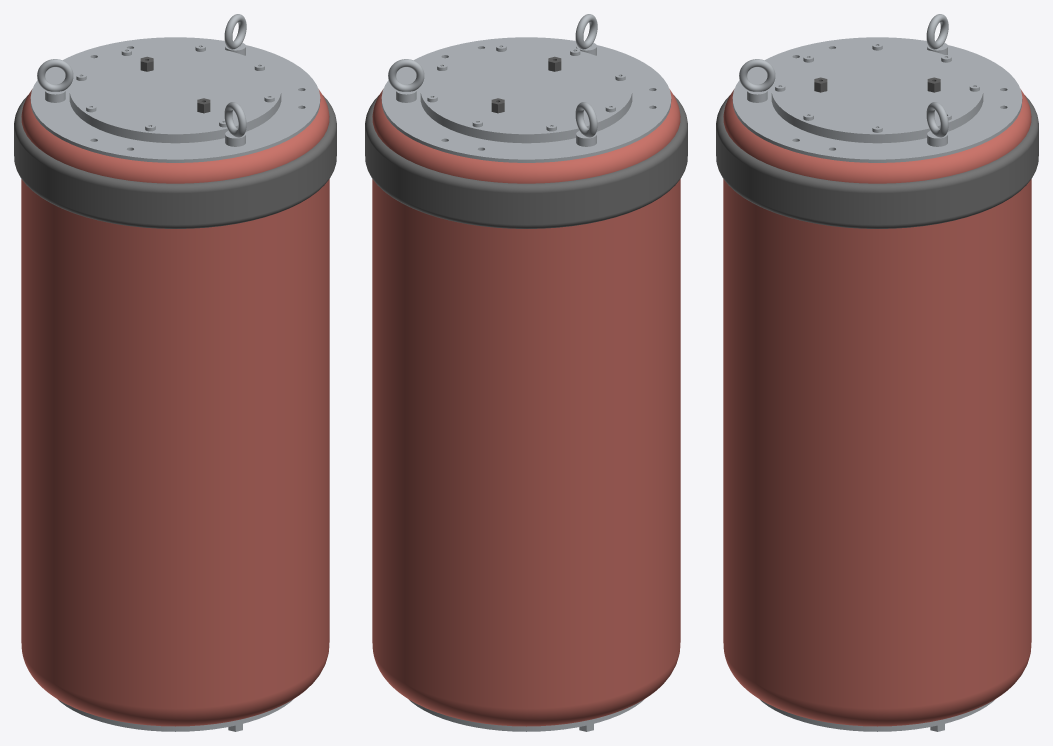
Rendered from step_02.glb.
3 views of the same model, side by side, from view 1: azimuth 30°, elevation 25°; view 2: azimuth 150°, elevation 25°; view 3: azimuth 270°, elevation 25° (orthographic).
Visible parts, largest first — view 1: part__float hull, part__fender ring, part__hatch lid, part__deck plate, part__keel plate, part__equipment canister, part__lifting eye nut 2, part__lifting eye nut 3, part__lifting eye nut 1; view 2: part__float hull, part__fender ring, part__hatch lid, part__deck plate, part__keel plate, part__equipment canister, part__lifting eye nut 1, part__lifting eye nut 2, part__lifting eye nut 3; view 3: part__float hull, part__fender ring, part__hatch lid, part__deck plate, part__keel plate, part__equipment canister, part__lifting eye nut 3, part__lifting eye nut 1, part__lifting eye nut 2.
Boxes of the visible parts, x1,y1,x2,y2 form: part__float hull: (21, 89, 329, 726); part__fender ring: (14, 95, 336, 228); part__hatch lid: (69, 44, 281, 138); part__deck plate: (30, 37, 320, 162); part__keel plate: (58, 699, 292, 731); part__equipment canister: (69, 97, 281, 143); part__lifting eye nut 2: (37, 59, 73, 102); part__lifting eye nut 3: (224, 102, 246, 146); part__lifting eye nut 1: (224, 14, 246, 55); part__float hull: (372, 89, 680, 726); part__fender ring: (365, 95, 687, 228); part__hatch lid: (420, 44, 632, 138); part__deck plate: (381, 37, 671, 162); part__keel plate: (409, 699, 643, 731); part__equipment canister: (420, 97, 632, 143); part__lifting eye nut 1: (388, 59, 424, 102); part__lifting eye nut 2: (575, 102, 597, 146); part__lifting eye nut 3: (575, 14, 597, 55); part__float hull: (723, 89, 1031, 726); part__fender ring: (716, 95, 1038, 228); part__hatch lid: (771, 44, 983, 138); part__deck plate: (732, 37, 1022, 162); part__keel plate: (759, 699, 994, 731); part__equipment canister: (771, 97, 983, 143); part__lifting eye nut 3: (739, 59, 775, 102); part__lifting eye nut 1: (926, 102, 948, 146); part__lifting eye nut 2: (926, 14, 948, 54).
Bounding box in the file's own units: 524 × 1121 × 524.
